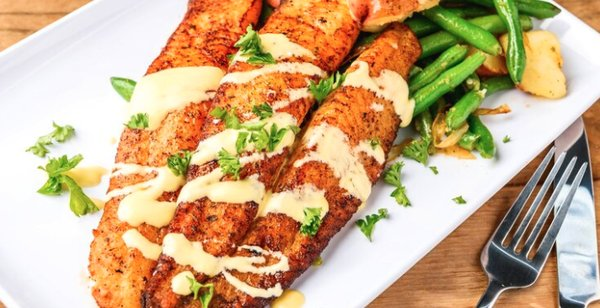burger: (475, 142, 585, 306)
